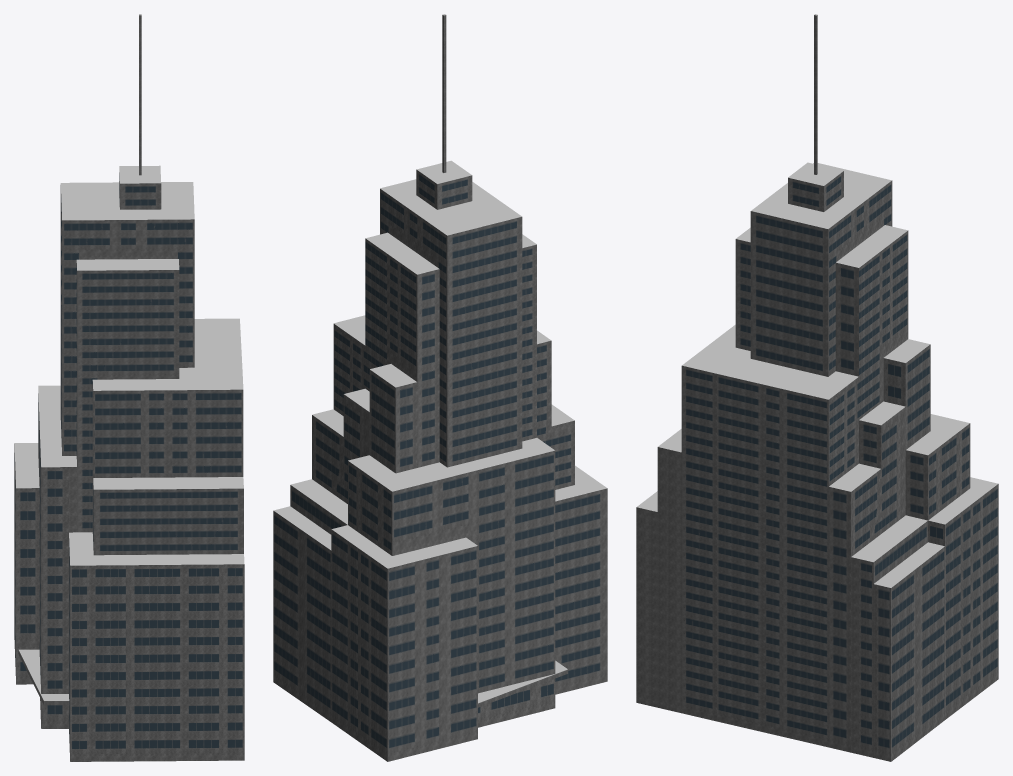
File: building-0-0-786.dae
3 renders of one model, left to right at view 1: azimuth 30°, elevation 25°; view 2: azimuth 150°, elevation 25°; view 3: azimuth 270°, elevation 25°, orthographic.
Parts seen in each view (by area): view 1: geopipeinodei78mEVFx (×3); view 2: geopipeinodei78mEVFx (×3); view 3: geopipeinodei78mEVFx (×3).
Part boxes in pixels (x1,y1,x2,y2): geopipeinodei78mEVFx (×3): (14, 14, 244, 761); geopipeinodei78mEVFx (×3): (273, 14, 607, 761); geopipeinodei78mEVFx (×3): (636, 14, 998, 761).
Bounding box in the file's own units: 60.92 × 75.52 × 157.
